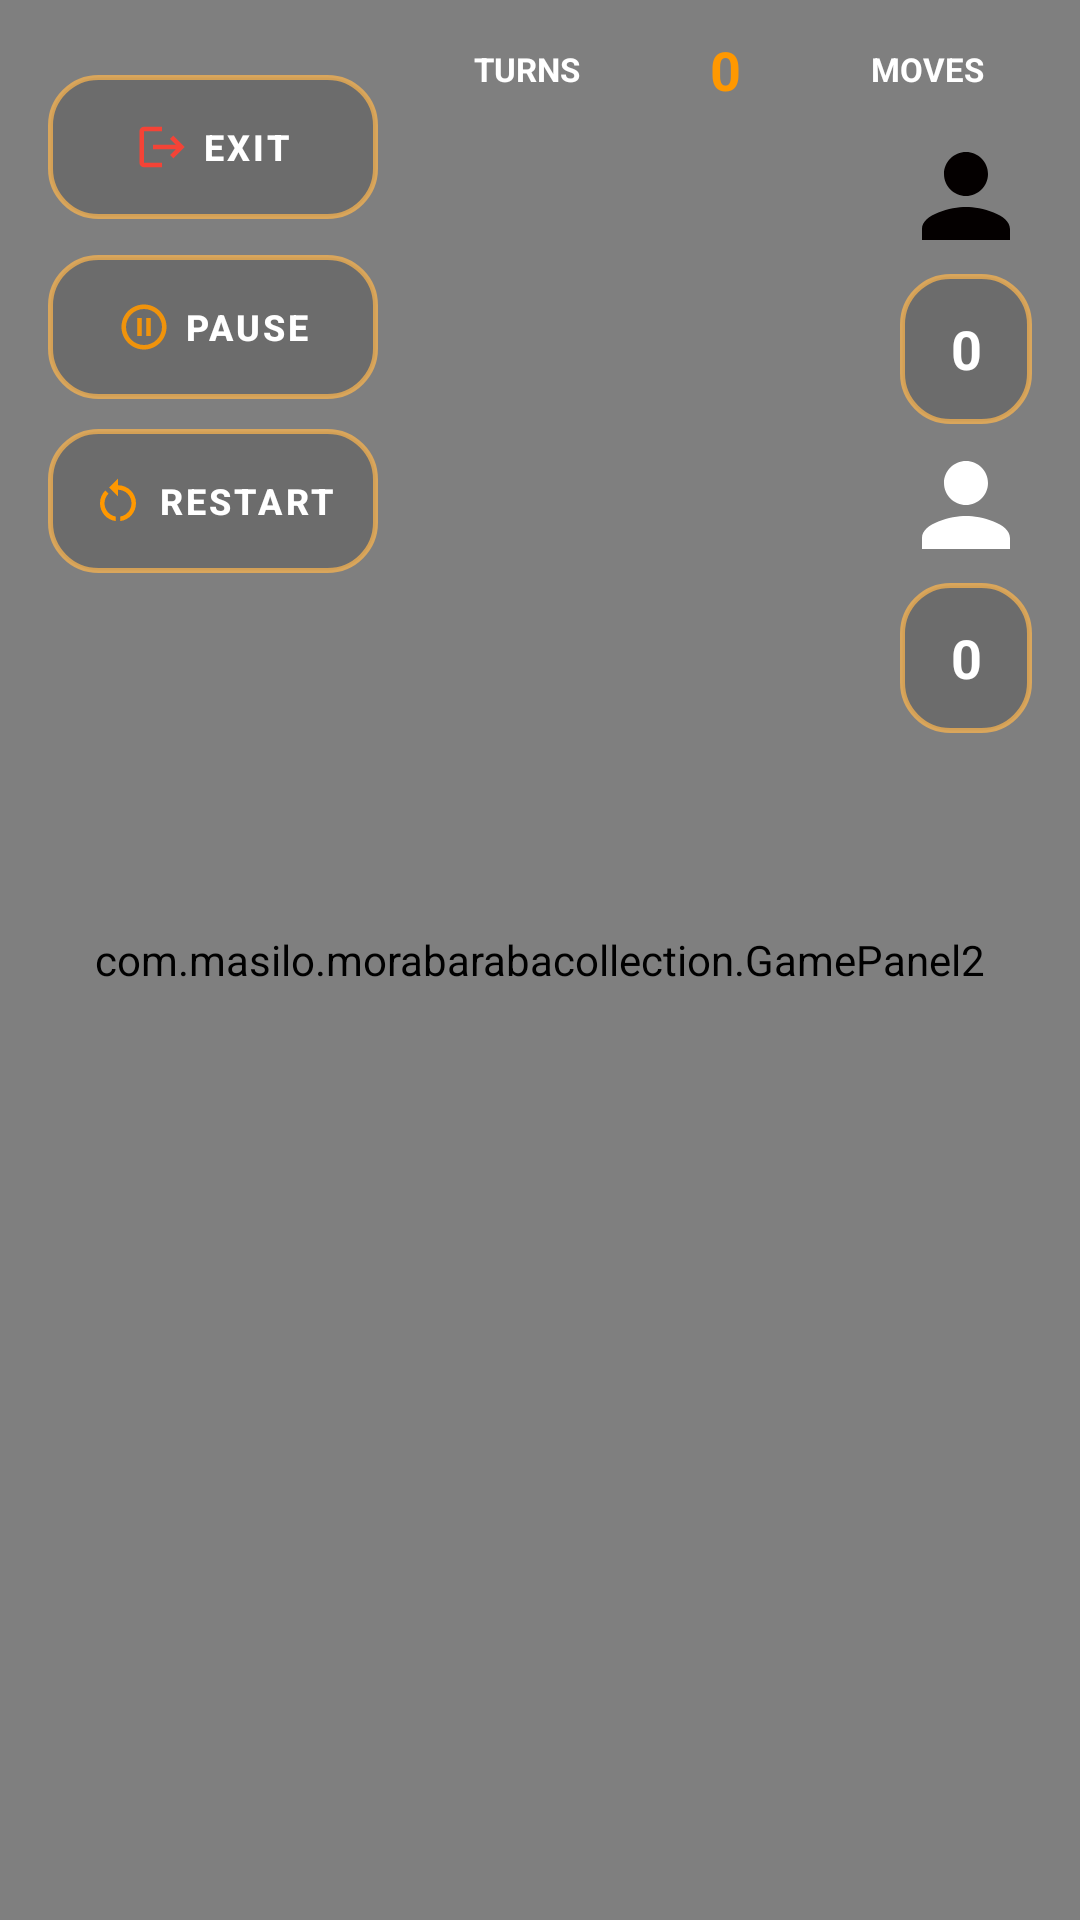

Point at icon controls on the screen. Image size 1080 × 1920, points as (x=x, y=y).
player: (x=966, y=196), (x=966, y=505)
